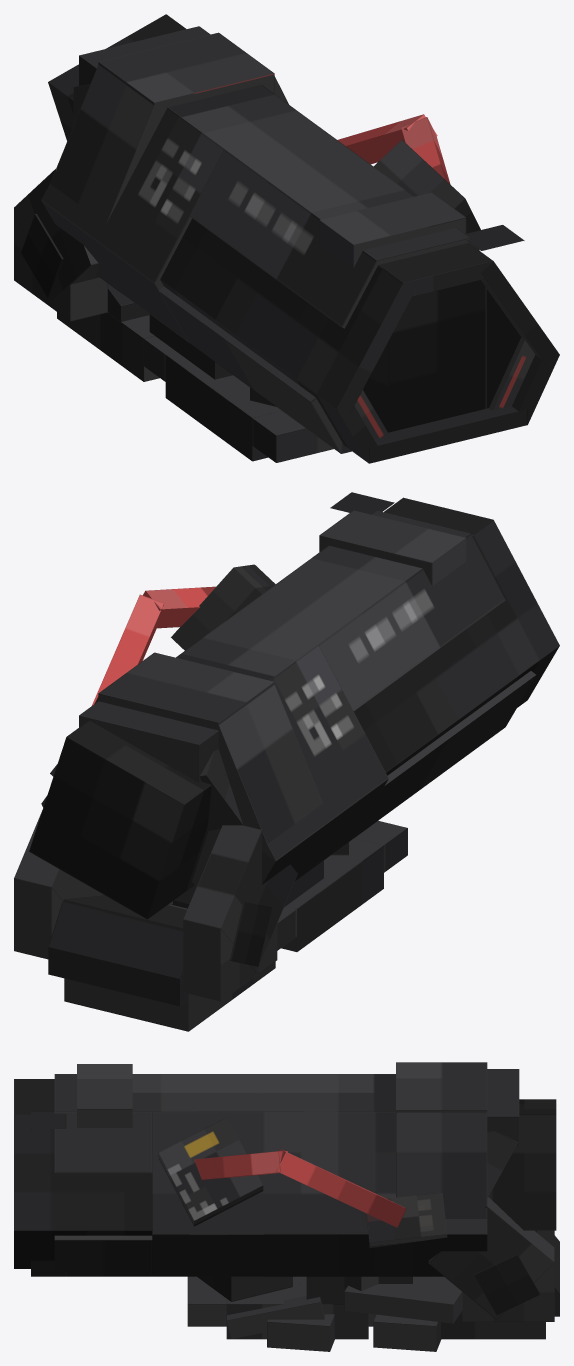
File: hi red.obj
The picture shows the model from 3 angles, top to bottom: view 1: azimuth 30°, elevation 25°; view 2: azimuth 150°, elevation 25°; view 3: azimuth 270°, elevation 25°; orthographic projection. The views are drawn at different scales.
Parts seen in each view (by area): view 1: hired_53, scopepip_1; view 2: hired_53, scopepip_1; view 3: hired_53, scopepip_1.
Boxes of the visible parts, x1=… form: hired_53: x1=14, y1=14, x2=559, y2=463; scopepip_1: x1=466, y1=225, x2=524, y2=250; hired_53: x1=14, y1=497, x2=559, y2=1031; scopepip_1: x1=330, y1=492, x2=394, y2=514; hired_53: x1=14, y1=1062, x2=559, y2=1351; scopepip_1: x1=31, y1=1111, x2=66, y2=1276.
Bounding box in the file's own units: 0.446 × 0.4542 × 0.9626.
